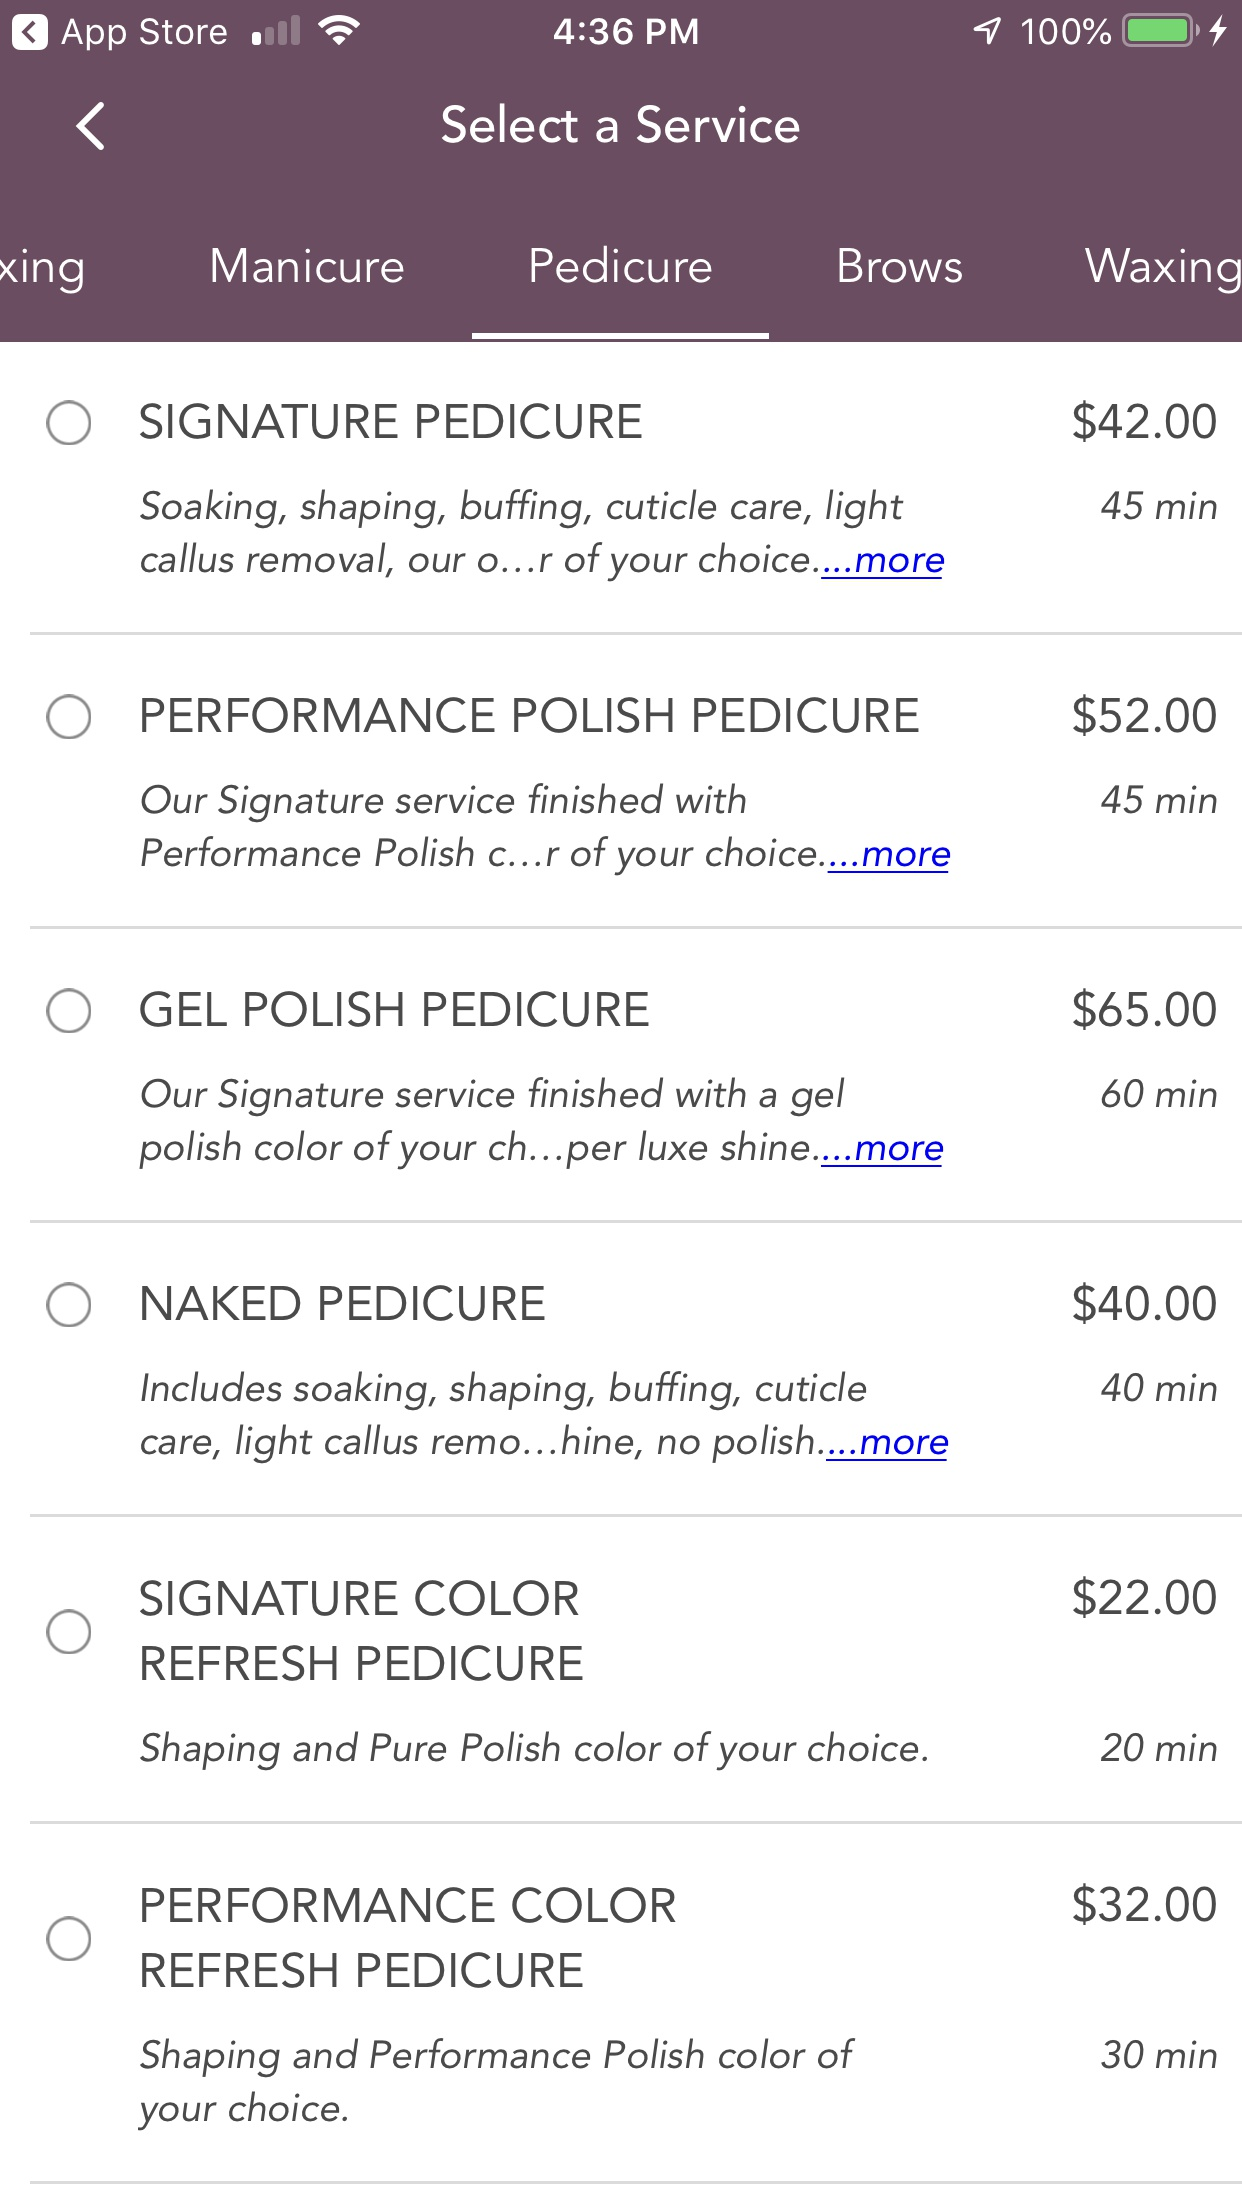CheckedTextView: (45, 1883, 681, 1993), (45, 1577, 587, 1682), (44, 693, 921, 740), (45, 986, 654, 1034), (45, 400, 643, 447), (45, 1281, 546, 1328)
Icon: (76, 102, 106, 153)
Text: (143, 783, 951, 877), (141, 1371, 949, 1465), (140, 488, 945, 582), (140, 1077, 943, 1171), (138, 2037, 855, 2132), (143, 1887, 676, 1990), (140, 1579, 584, 1682), (140, 1730, 928, 1771), (143, 698, 919, 734), (140, 990, 651, 1028), (140, 403, 643, 441), (441, 102, 801, 146), (143, 1284, 546, 1322), (1084, 247, 1242, 296), (212, 247, 406, 285), (529, 246, 713, 285), (1072, 695, 1218, 739), (1072, 1281, 1218, 1325), (1074, 399, 1218, 443), (1074, 1576, 1218, 1620), (1072, 989, 1218, 1031), (1074, 1883, 1218, 1926), (839, 247, 963, 285), (2, 249, 85, 296), (1099, 1732, 1218, 1764), (1101, 490, 1218, 522), (1099, 2040, 1218, 2070), (1101, 1078, 1218, 1109), (1101, 1372, 1218, 1403), (1099, 786, 1218, 814)
UpperTaskBar: (2, 2, 1242, 49)
